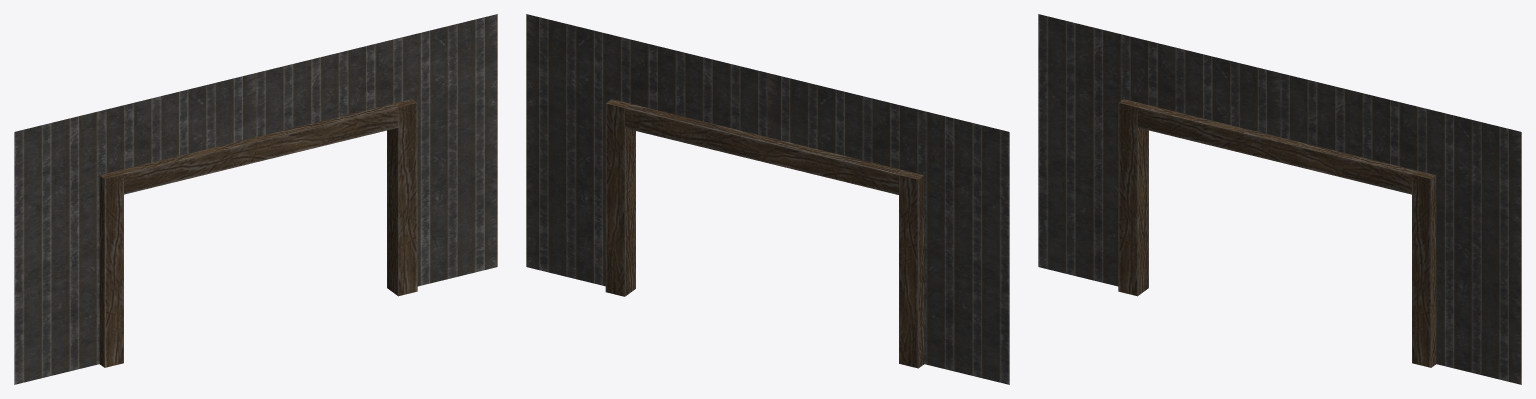
The model's file is door.fbx.
The picture shows the model from 3 angles, left to right: view 1: azimuth 30°, elevation 25°; view 2: azimuth 150°, elevation 25°; view 3: azimuth 330°, elevation 25°; orthographic projection.
Visible parts, largest first — view 1: door; view 2: door; view 3: door.
Part boxes in pixels (x1=…): door: x1=14, y1=14, x2=497, y2=384; door: x1=526, y1=14, x2=1009, y2=384; door: x1=1038, y1=14, x2=1521, y2=384.
Size of the model in its own units: 800 by 400 by 31.9.
